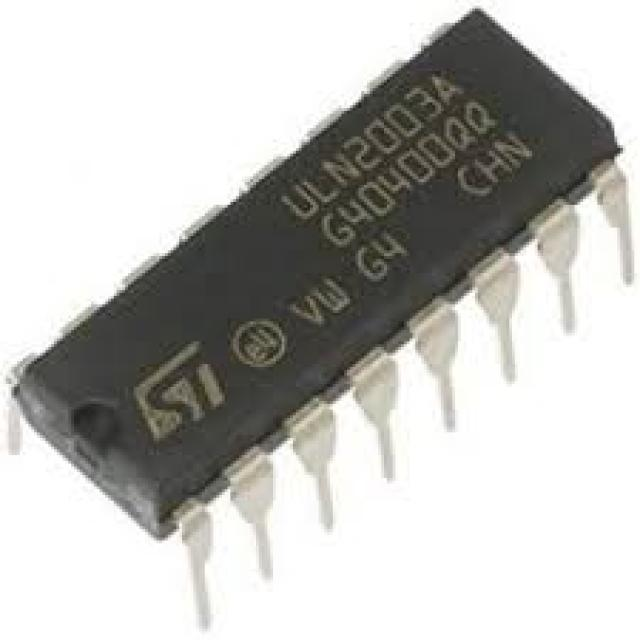IC: (12, 9, 624, 568)
